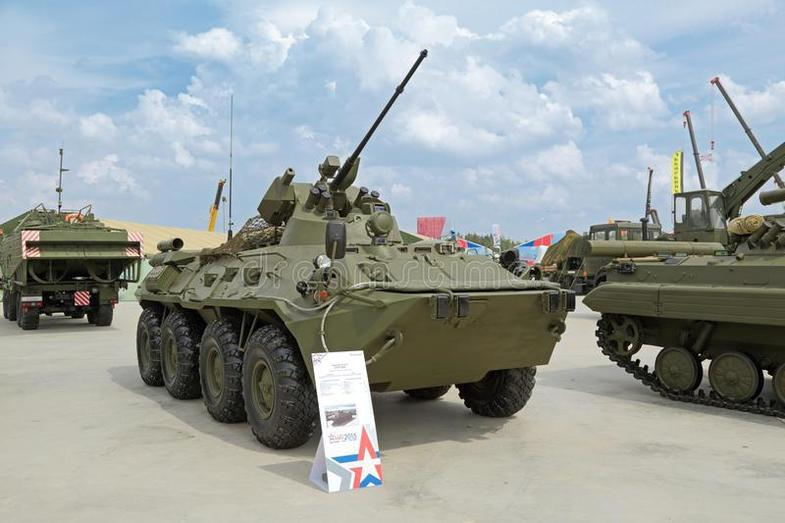btr: (148, 190, 575, 428)
